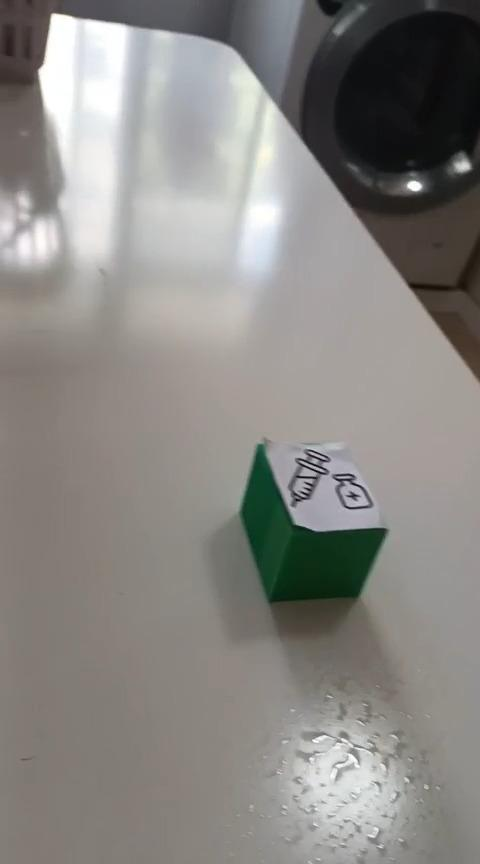antiseptic cream: (237, 435, 389, 603)
